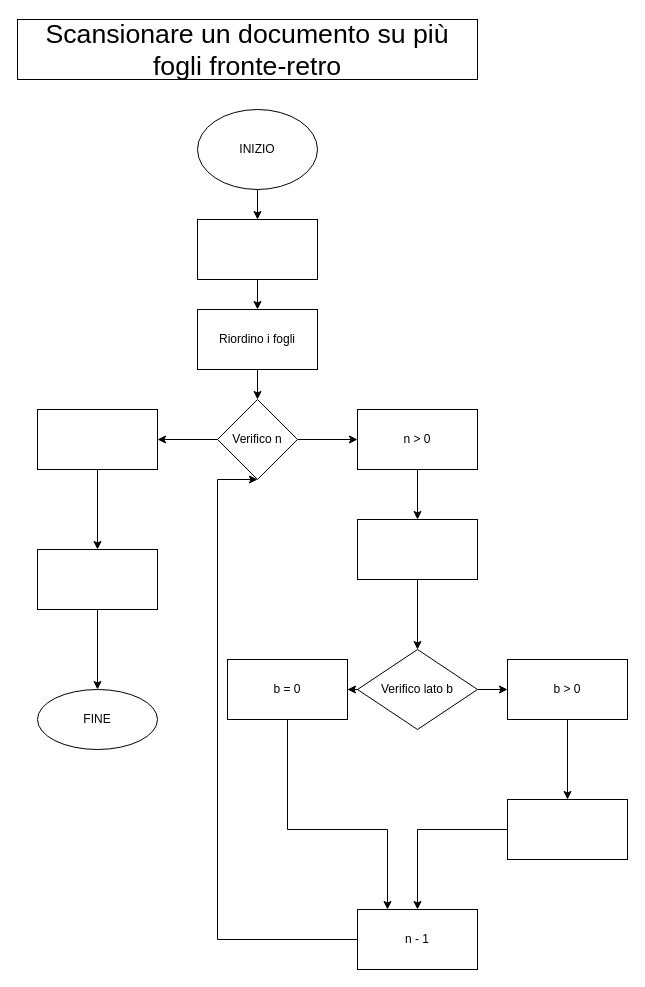
This 645x987 diagram has some shape labels left out. The centre of each missing label's shape, as x and y in pixels:
Accendo lo scanner: (257,249)
n = 0: (97,439)
Scansiono lato a: (417,549)
Scansiono lato b: (567,829)
Spengo lo scanner: (97,579)
